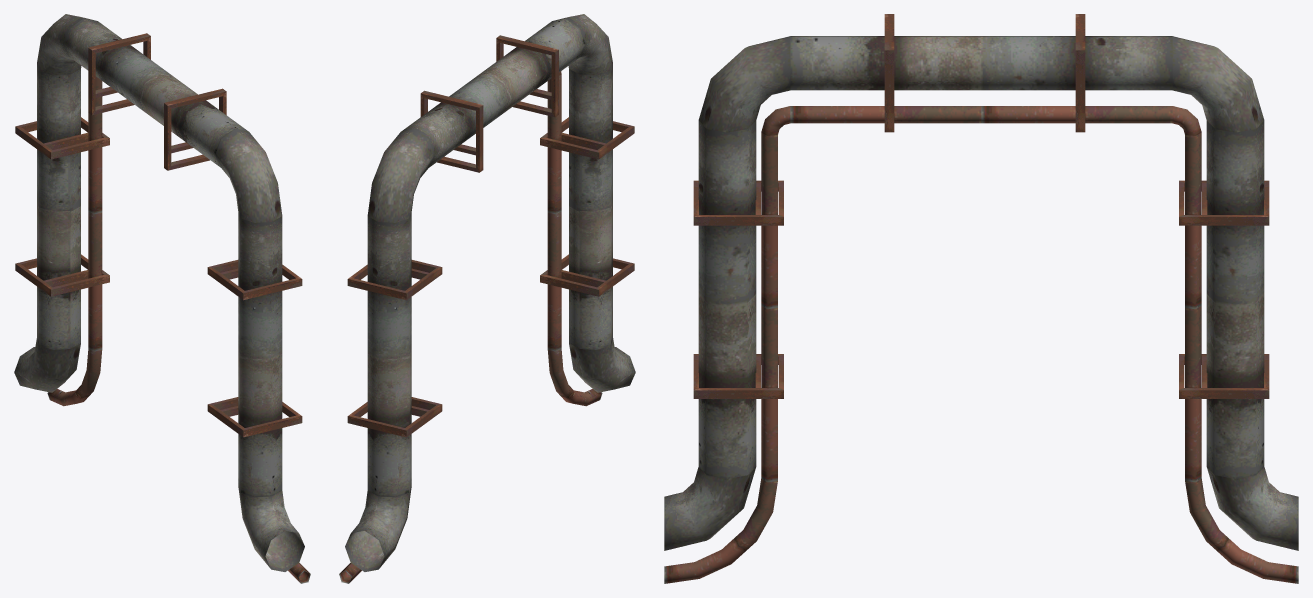
The model's file is Pipe_arch.fbx.
The picture shows the model from 3 angles, left to right: view 1: azimuth 30°, elevation 25°; view 2: azimuth 150°, elevation 25°; view 3: azimuth 270°, elevation 25°; orthographic projection. The views are drawn at different scales.
Parts seen in each view (by area): view 1: Pipe_arch; view 2: Pipe_arch; view 3: Pipe_arch.
Part boxes in pixels (x1=…): Pipe_arch: x1=14, y1=14, x2=310, y2=583; Pipe_arch: x1=339, y1=14, x2=635, y2=583; Pipe_arch: x1=664, y1=14, x2=1298, y2=583.
Size of the model in its own units: 103 by 711 by 761.
